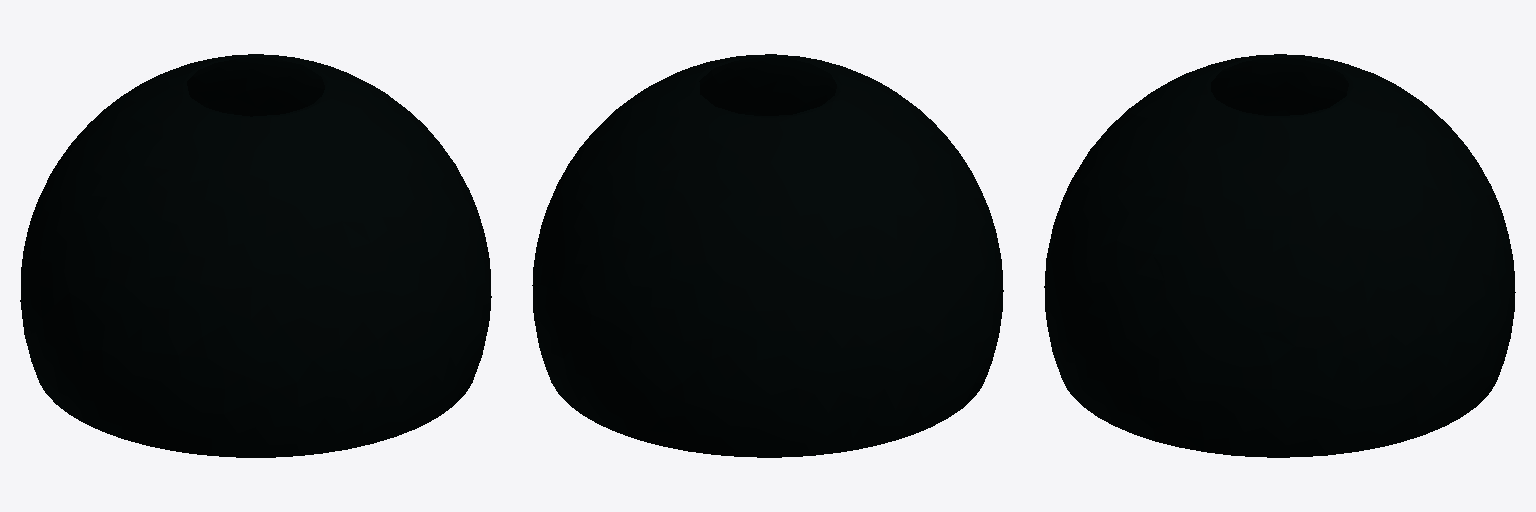
The robot description file, URDF, robot "milling_head":
<?xml version="1.0" ?>
<robot name="milling_head">
  <link concave="yes" name="baseLink">
    <inertial>
      <origin rpy="0 0 0" xyz="0 0 0"/>
       <mass value="0.00000001"/>
       <inertia ixx="0.000001" ixy="0" ixz="0" iyy="0.000001" iyz="0" izz="0.000001"/>
    </inertial>
    <visual>
			<material name="almost_black">
            <color rgba="0.027450980392156862 0.050980392156862744 0.050980392156862744 1.0"/>
      </material>
			<geometry>
        <mesh filename="test_obstacle.stl"  scale="0.1 0.1 0.1"/>
      </geometry>
    </visual>
    <collision concave="yes" >
    <origin rpy="0 0 0" xyz="0.00 0 0.0"/>
    <geometry>
        <mesh filename="test_obstacle.stl"  scale="0.1 0.1 0.1"/>
    </geometry>
  </collision>
  </link>
 <joint name="milling_trafo" type="fixed">
		<parent link="baseLink"/>
		<child link="tcp"/>
		<origin xyz="0.0 0.0 0.0" rpy="0 0 0"/>
	</joint>
    <link name="tcp">
    <inertial>
      <origin rpy="0 0 0" xyz="0 0 0"/>
       <mass value="0.00000001"/>
       <inertia ixx="0.000001" ixy="0" ixz="0" iyy="0.000001" iyz="0" izz="0.000001"/>
    </inertial>
	</link>
</robot>

--- Facts derived from the render (not from the file) ---
Views: 3 orthographic renders of the robot side by side, from view 1: azimuth 30°, elevation 25°; view 2: azimuth 150°, elevation 25°; view 3: azimuth 270°, elevation 25°.
Robot: milling_head — 2 links, 1 joints (1 fixed); root link baseLink; default pose: every joint at zero.
Visible links, largest first — view 1: baseLink; view 2: baseLink; view 3: baseLink.
Boxes of the visible links, left/top/right/bottom form: baseLink: left=20, top=54, right=491, bottom=457; baseLink: left=532, top=54, right=1003, bottom=457; baseLink: left=1044, top=54, right=1515, bottom=457.
Bounding box of the posed robot: 4 × 4 × 2.6 m (x, y, z).
Meshes: 1 distinct files referenced, 1 mesh visuals loaded (1 binary STL).
